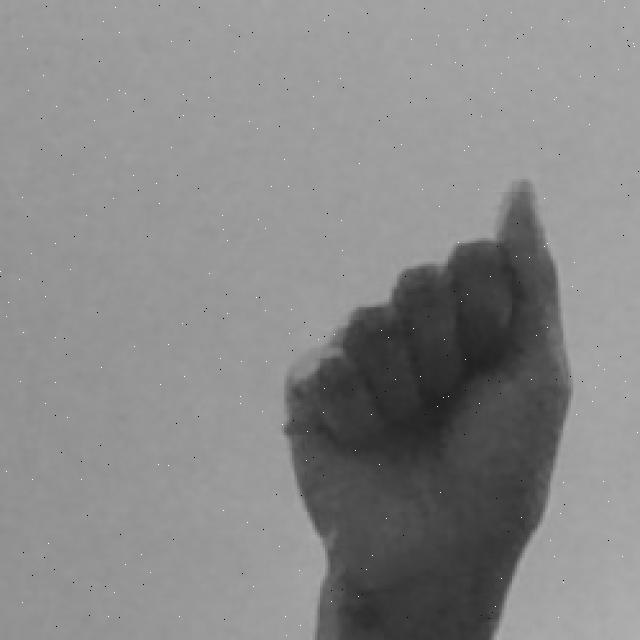A: (274, 170, 578, 640)
